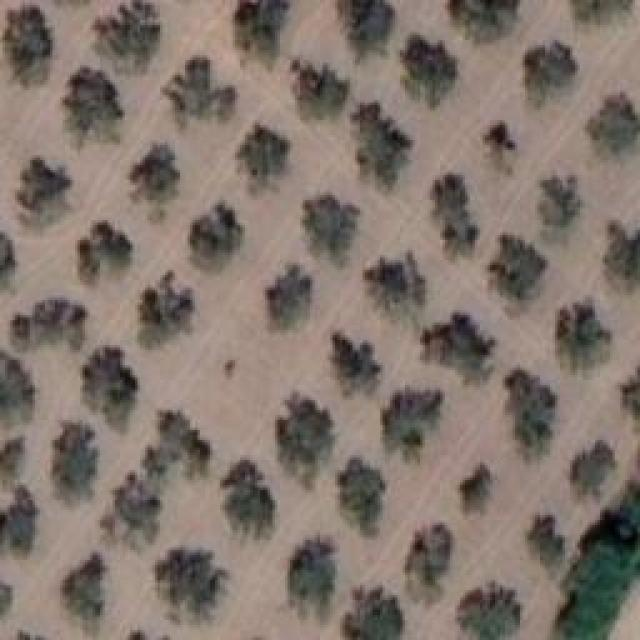Tree: (557, 485, 640, 640), (143, 405, 217, 489), (275, 392, 333, 487), (353, 103, 414, 186), (155, 550, 228, 618), (93, 0, 159, 73), (425, 315, 496, 382), (83, 347, 138, 432), (505, 370, 558, 457), (100, 475, 165, 545), (163, 60, 236, 122), (3, 5, 56, 89), (383, 388, 444, 458), (223, 460, 276, 540), (365, 255, 428, 321), (400, 35, 456, 108), (140, 272, 194, 347), (10, 298, 86, 351), (63, 68, 124, 134), (555, 300, 611, 371), (302, 195, 360, 263), (405, 522, 454, 602), (488, 235, 548, 300), (433, 175, 479, 257), (52, 423, 100, 501), (337, 458, 385, 536), (458, 582, 522, 640), (190, 203, 245, 270), (63, 553, 107, 635), (523, 43, 578, 106), (337, 0, 394, 59), (78, 223, 132, 285), (238, 0, 291, 63), (295, 60, 350, 120), (587, 92, 640, 152), (265, 265, 313, 330), (333, 333, 383, 395), (290, 538, 335, 605), (450, 0, 521, 42), (238, 125, 292, 179), (18, 158, 73, 210), (345, 588, 400, 640), (130, 145, 181, 200), (0, 354, 35, 424), (605, 222, 640, 292), (570, 440, 616, 493), (540, 175, 581, 227), (8, 485, 38, 552), (528, 515, 564, 566), (460, 463, 493, 513), (570, 0, 633, 23), (0, 433, 26, 483), (0, 230, 19, 290), (485, 122, 518, 152), (622, 368, 640, 418), (0, 575, 13, 622)
